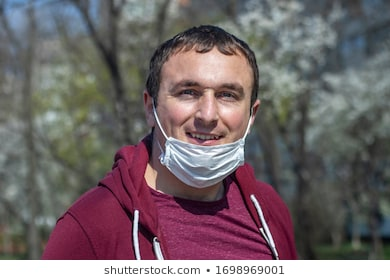mask_weared_incorrect: (160, 72, 250, 181)
